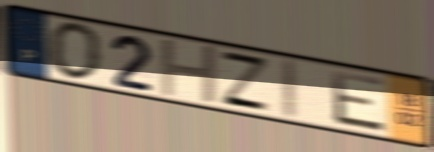2: (105, 30, 159, 95)
E: (328, 67, 389, 136)
H: (157, 37, 221, 106)
I: (279, 56, 301, 123)
O: (46, 20, 104, 83)
Z: (217, 48, 273, 115)
